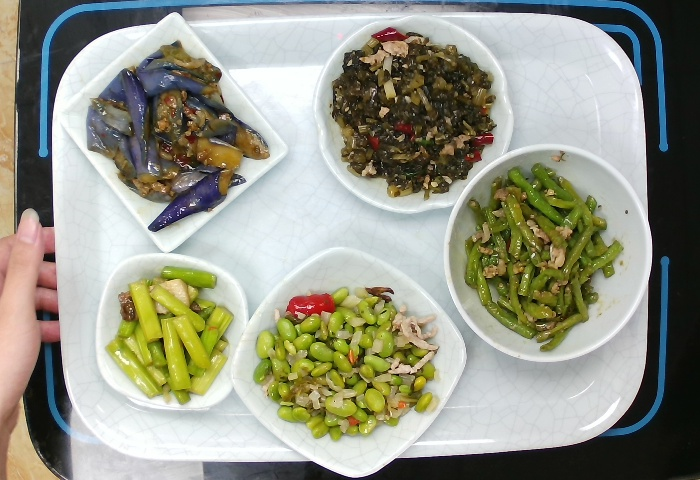JYsf-Ao_Yuan_Wan: (309, 12, 517, 217)
JYsf-Fan_Wan: (439, 140, 656, 366)
JYsf-Si_Fang_Die: (90, 251, 252, 414)
WCQzf-Da_Si_Fang_Die: (227, 241, 472, 480)
WCQzf-Ru_Ci_Si_Fang_Die: (54, 10, 293, 255)
